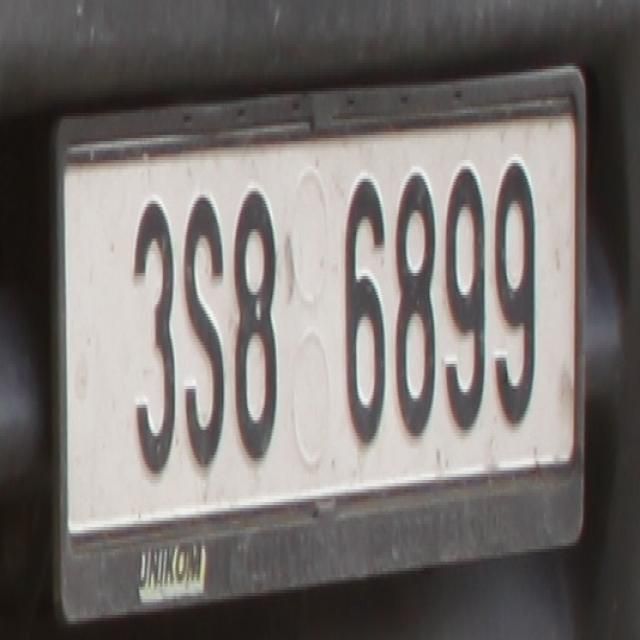3: (133, 194, 175, 470)
6: (343, 179, 387, 442)
8: (231, 188, 277, 471), (394, 166, 433, 430)
9: (445, 163, 485, 430), (496, 154, 536, 417)
S: (181, 185, 229, 458)
